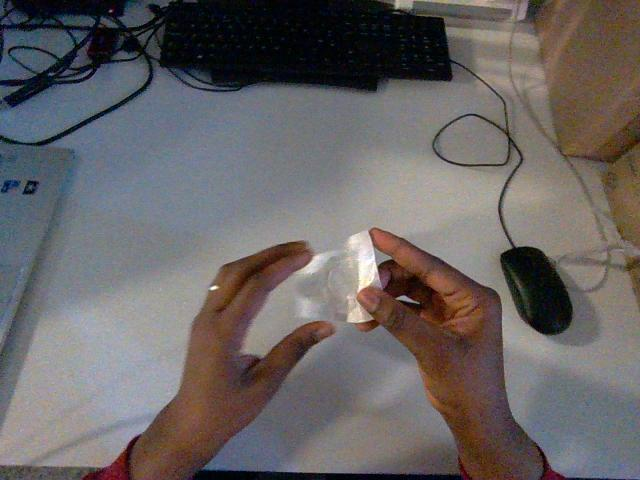syringe: (295, 231, 380, 322)
